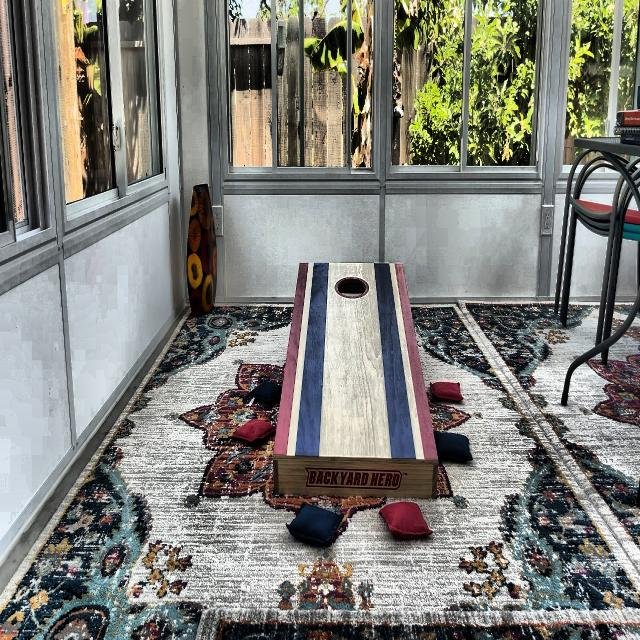blue-bean-bag: (285, 500, 344, 544), (435, 430, 472, 463), (247, 379, 282, 404)
board: (293, 262, 412, 455)
hole: (334, 275, 369, 299)
red-bean-bag: (379, 500, 432, 540), (234, 418, 275, 443), (431, 381, 462, 402)
